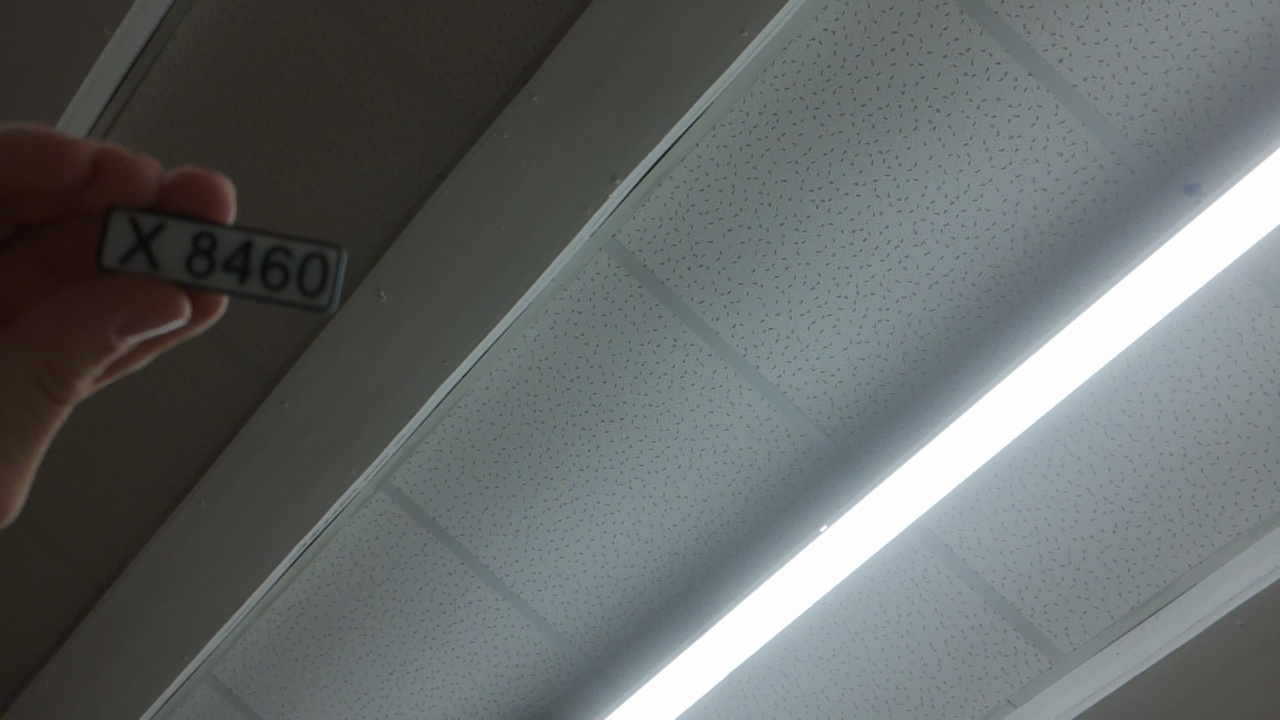license_plate: (95, 196, 353, 321)
